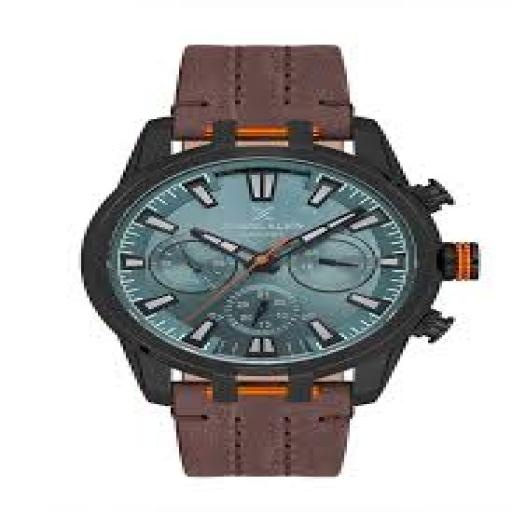KolSaati: (53, 29, 483, 492)
